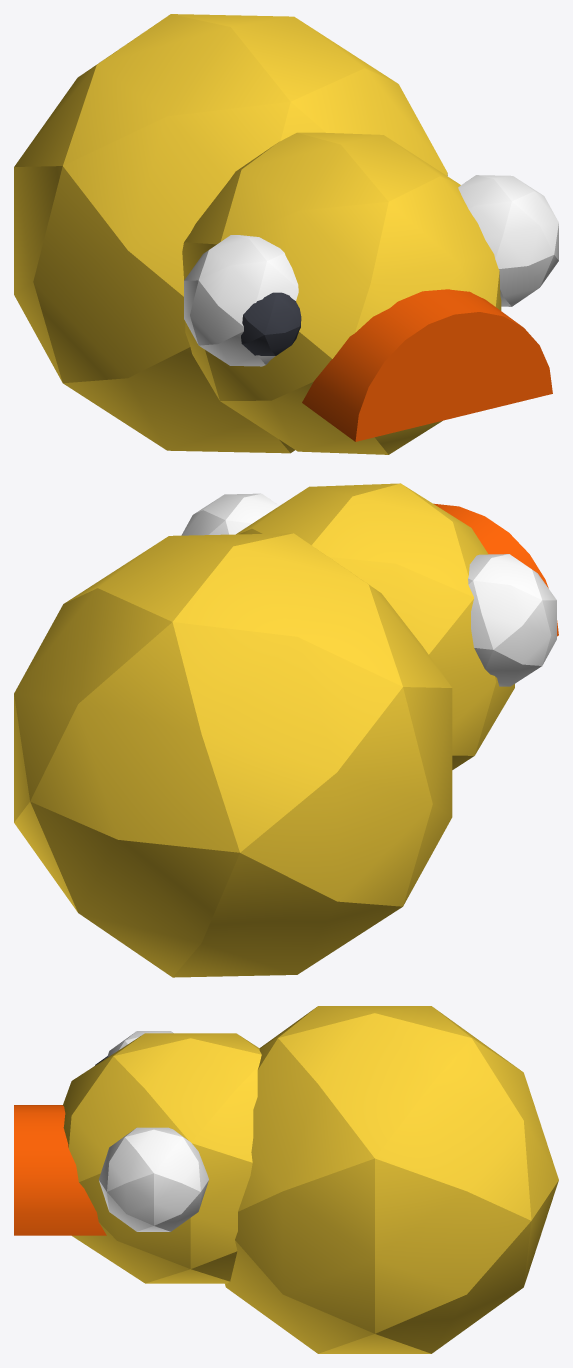
The model's file is flappy-bird-body.fbx.
3 renders of one model, top to bottom at view 1: azimuth 30°, elevation 25°; view 2: azimuth 150°, elevation 25°; view 3: azimuth 270°, elevation 25°, orthographic. The views are drawn at different scales.
Parts seen in each view (by area): view 1: mergedBlocks; view 2: mergedBlocks; view 3: mergedBlocks.
Part boxes in pixels (x1,y1,x2,y2): mergedBlocks: (14, 14, 558, 454); mergedBlocks: (14, 483, 558, 977); mergedBlocks: (14, 1006, 558, 1353).
Size of the model in its own units: 0.3 by 0.3 by 0.444.
